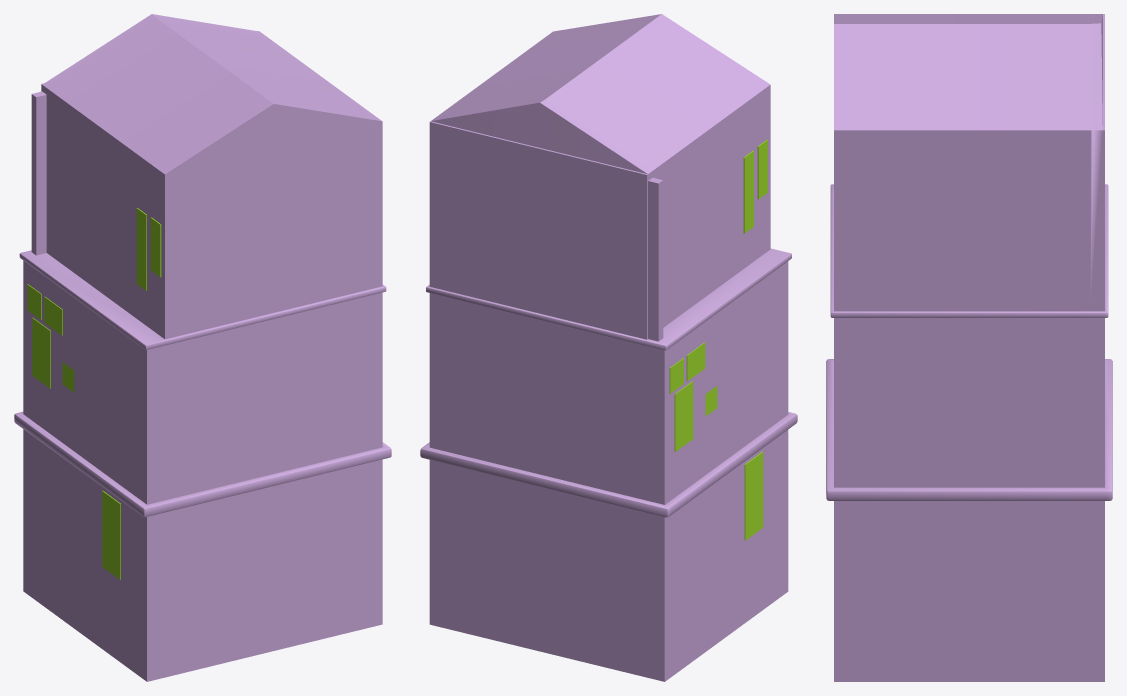
File: relleno5_st.fbx
3 views of the same model, side by side, from view 1: azimuth 30°, elevation 25°; view 2: azimuth 150°, elevation 25°; view 3: azimuth 270°, elevation 25° (orthographic). The views are drawn at different scales.
Parts seen in each view (by area): view 1: relleno5_estuctura, relleno5_estuctura.001; view 2: relleno5_estuctura, relleno5_estuctura.001; view 3: relleno5_estuctura.
Boxes of the visible parts, x1=… form: relleno5_estuctura: x1=14, y1=14, x2=391, y2=681; relleno5_estuctura.001: x1=27, y1=208, x2=161, y2=579; relleno5_estuctura: x1=420, y1=14, x2=797, y2=681; relleno5_estuctura.001: x1=669, y1=139, x2=767, y2=540; relleno5_estuctura: x1=826, y1=14, x2=1112, y2=681.
Bounding box in the file's own units: 373 × 784 × 339.
